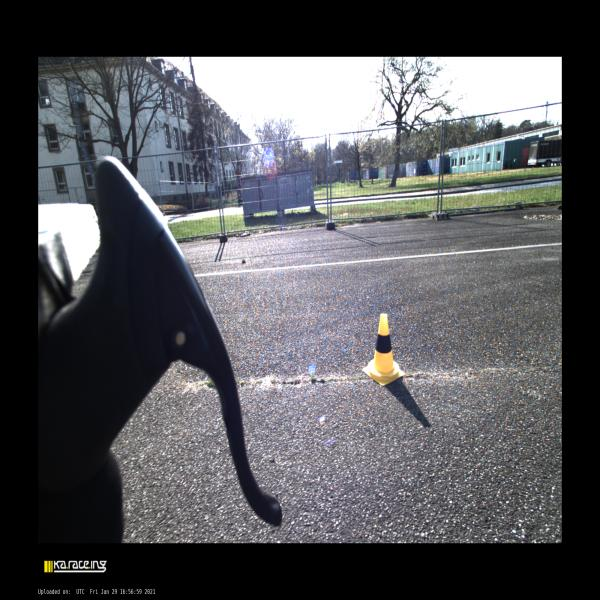yellow_cone: (362, 314, 405, 386)
